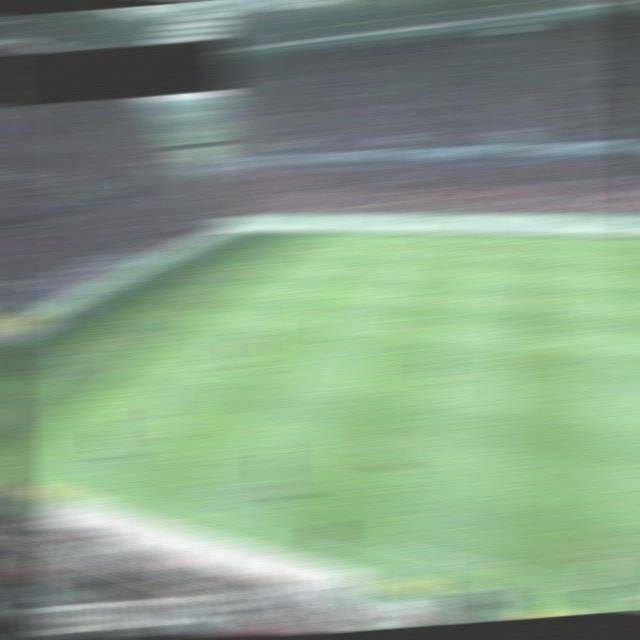bigarea_bottom_inner: (102, 360, 133, 374)
bigarea_bottom_outter: (0, 345, 19, 356)
bigarea_top_inner: (281, 245, 310, 253)
bigarea_top_outter: (197, 246, 220, 252)
bottom_arc_area_intersection: (195, 305, 222, 314)
corner: (219, 231, 248, 243)
halfcircle_bottom: (492, 341, 522, 352)
halfcircle_top: (496, 278, 526, 289)
midline_bottom_intersection: (477, 559, 507, 576)
midline_top_intersection: (499, 231, 528, 244)
smallarea_bottom_inner: (92, 310, 122, 322)
smallarea_bottom_outter: (65, 306, 95, 318)
smallarea_top_inner: (175, 267, 203, 279)
smallarea_top_outter: (147, 268, 178, 277)
top_arc_area_intersection: (233, 273, 261, 283)
